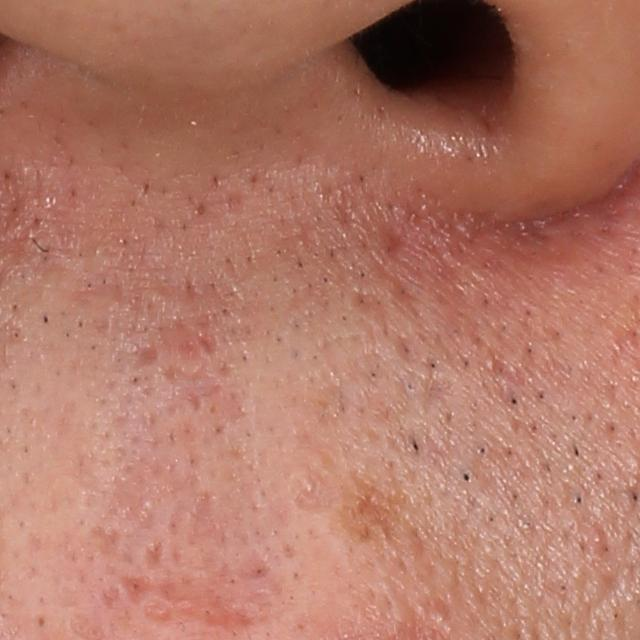atrophic_scar: (154, 574, 260, 639), (154, 307, 235, 387), (122, 573, 156, 611), (121, 343, 157, 375), (144, 534, 171, 574)
